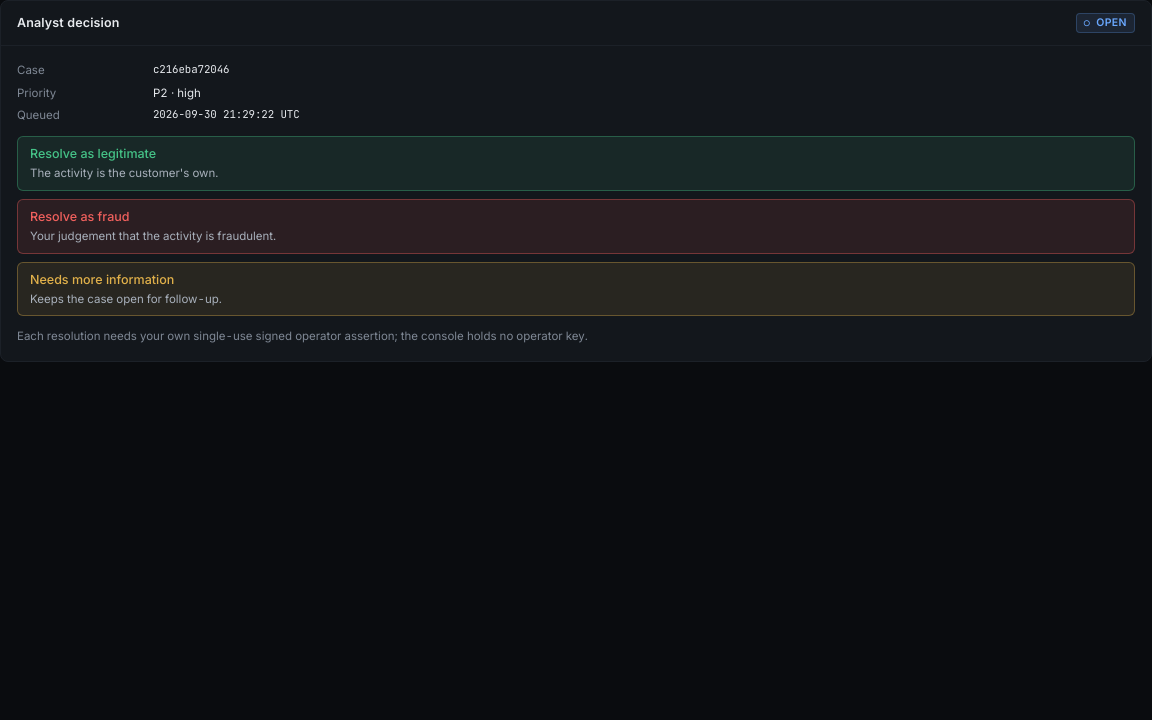
it: analyst decision › outside DEMO MODE asks for the analyst's own assertion
Expected: the text "needs your own single-use signed operator assertion" is shown, [17, 329, 588, 343]
Click the button with test id "resolve-legitimate" at [93, 154], box [17, 136, 1135, 191]
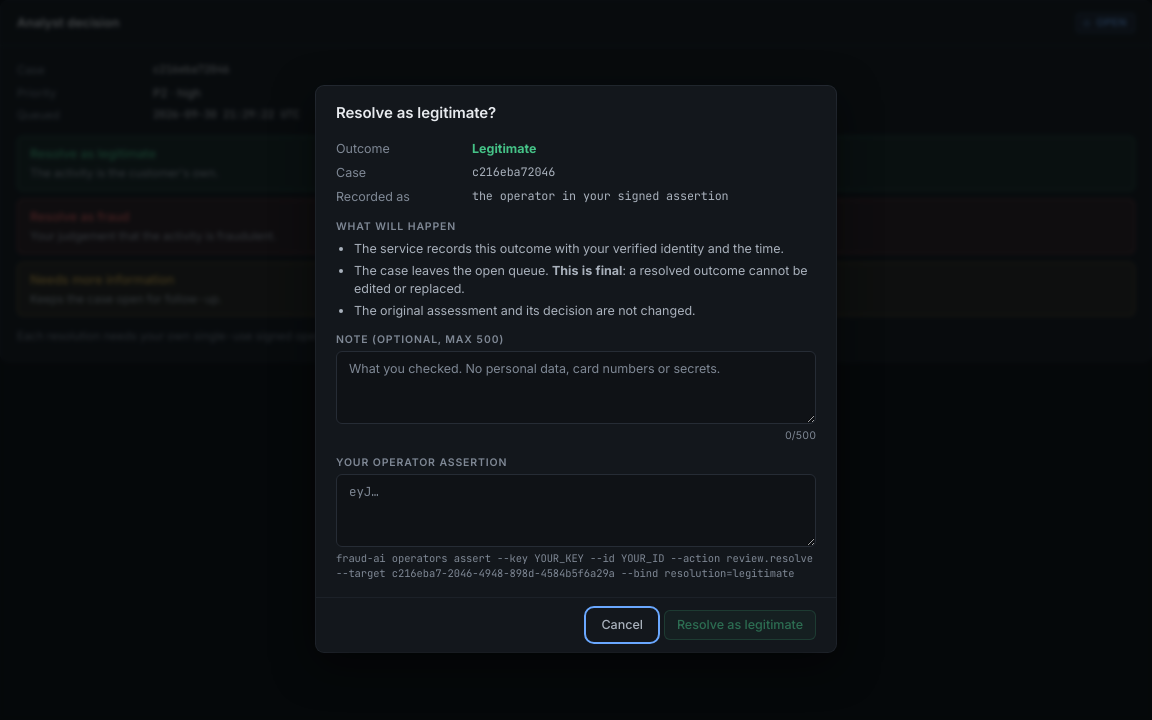
Now the text "fraud-ai operators assert" is shown, box [336, 551, 813, 580]
Now the button with test id "confirm-action" is disabled, box [664, 610, 816, 640]
